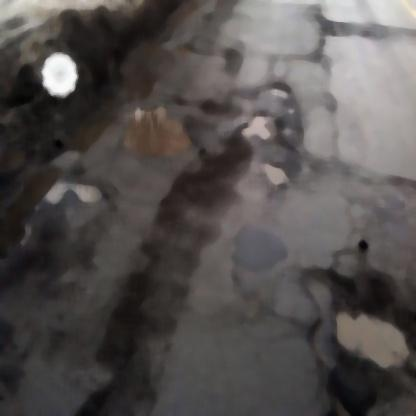Potholes: (330, 264, 415, 391), (236, 81, 301, 163), (126, 92, 192, 160), (36, 172, 104, 210)
